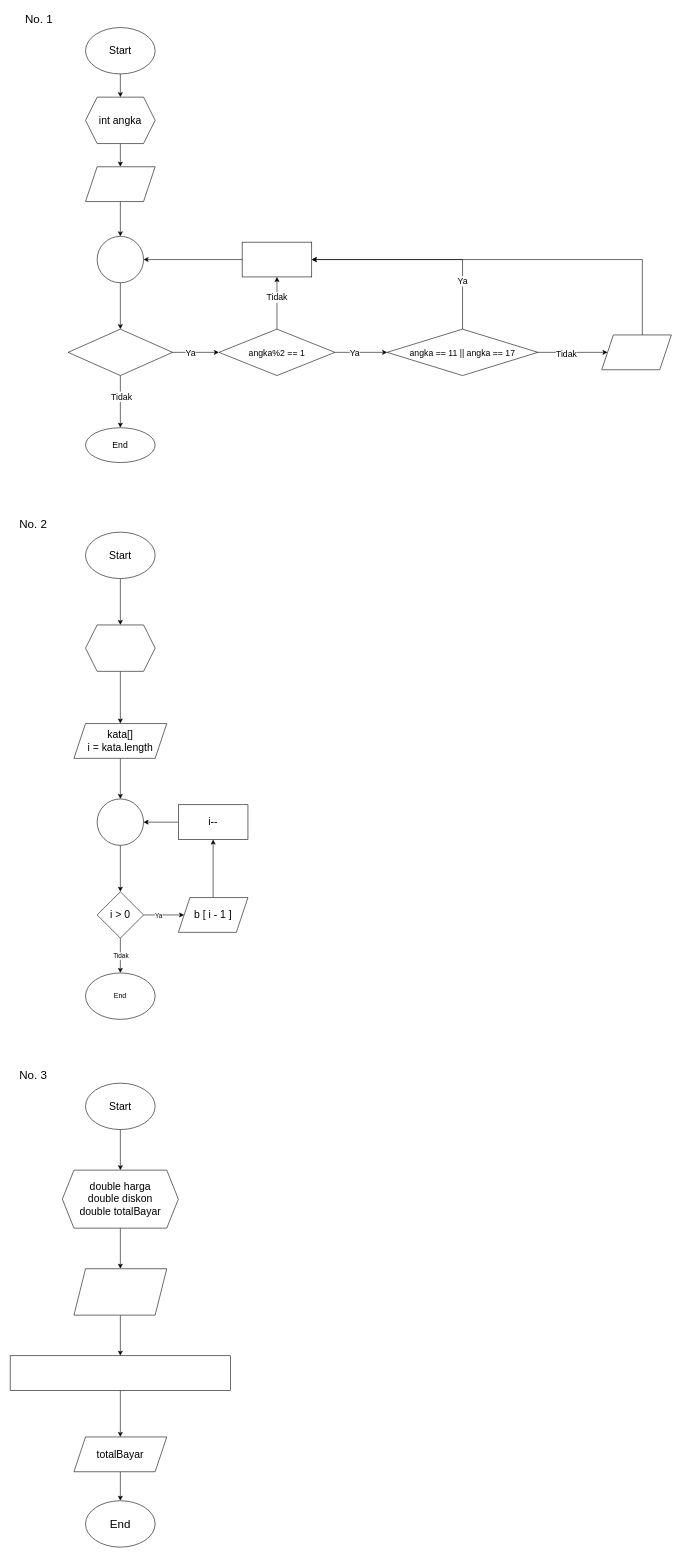
The diagram is 682 pixels wide and 1557 high, and some of its shapes have lost their labels. The centre of each missing label's shape, as x and y in pixels:
"angka" goes at (x=636, y=352).
"angka <= 20" goes at (x=120, y=352).
"angka = 1" goes at (x=120, y=184).
"angka++" goes at (x=277, y=259).
"char kata[] int i" goes at (x=120, y=647).
"harga diskon" goes at (x=120, y=1291).
"totalBayar = harga - (harga*(diskon/100))" goes at (x=120, y=1373).
